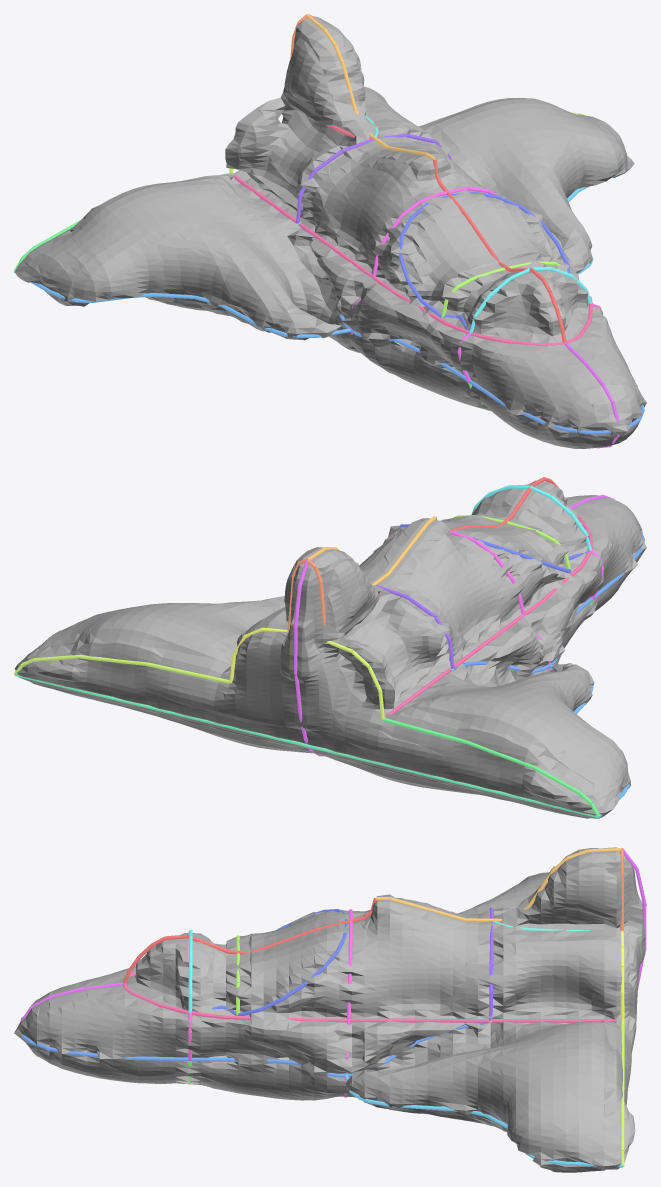
File: t2f_fighter.gltf
3 renders of one model, top to bottom at view 1: azimuth 30°, elevation 25°; view 2: azimuth 150°, elevation 25°; view 3: azimuth 270°, elevation 25°, orthographic. The views are drawn at different scales.
Bounding box in the file's own units: 0.7091 × 0.2739 × 0.6758.
